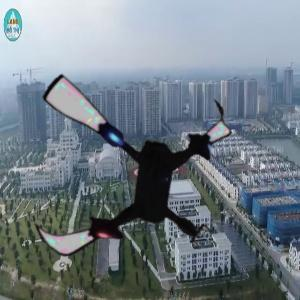drone: (9, 51, 241, 283)
